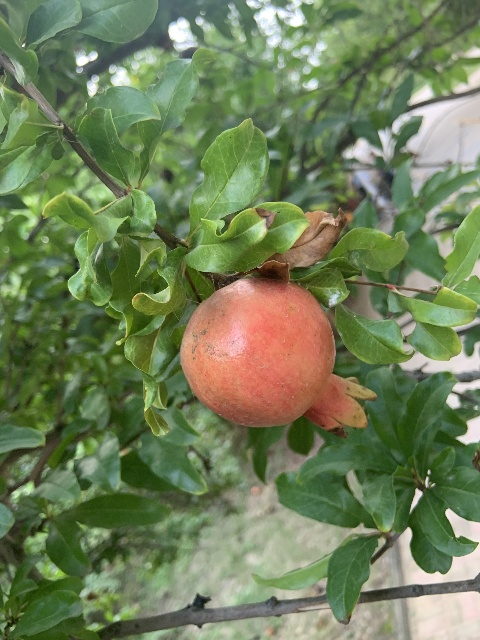ripe: (180, 276, 377, 435)
